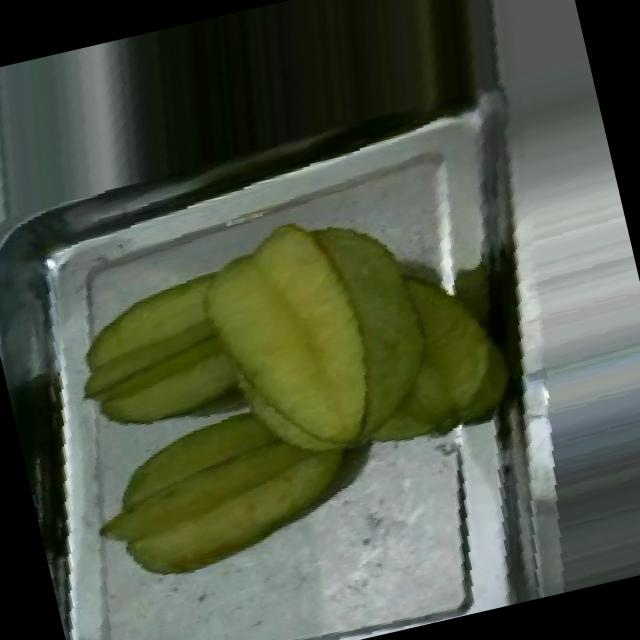fruit: (176, 170, 536, 498), (66, 366, 392, 612), (48, 248, 262, 462)
